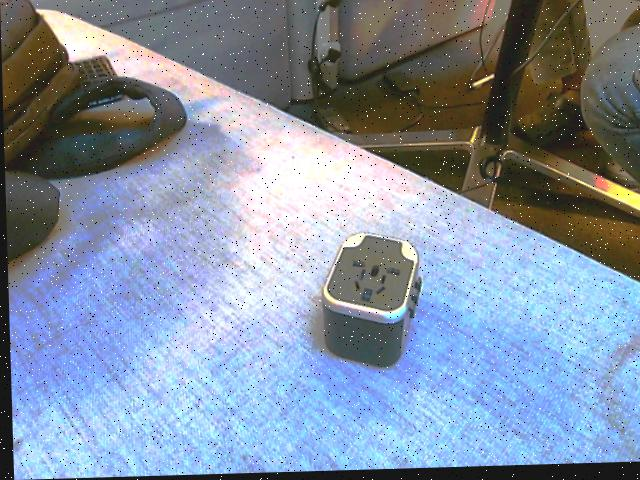adapter: (317, 232, 421, 371)
